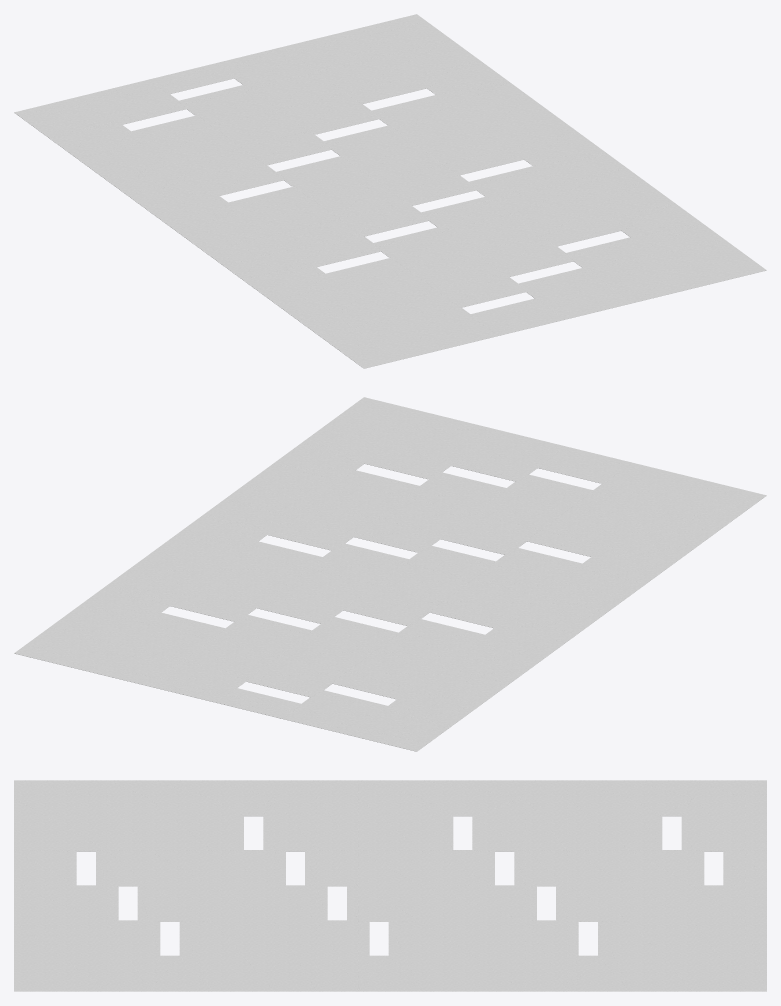
3 views of the same model, one above another, from view 1: azimuth 30°, elevation 25°; view 2: azimuth 150°, elevation 25°; view 3: azimuth 270°, elevation 25° (orthographic). The views are drawn at different scales.
Visible parts, largest first — view 1: base_link; view 2: base_link; view 3: base_link.
Boxes of the visible parts, x1,y1,x2,y2 form: base_link: (14, 14, 766, 368); base_link: (14, 397, 766, 751); base_link: (14, 780, 766, 991).
Size of the model in its own units: 7.28 by 10.96 by 0.003.
Materials: 1 (1 with a texture image).
